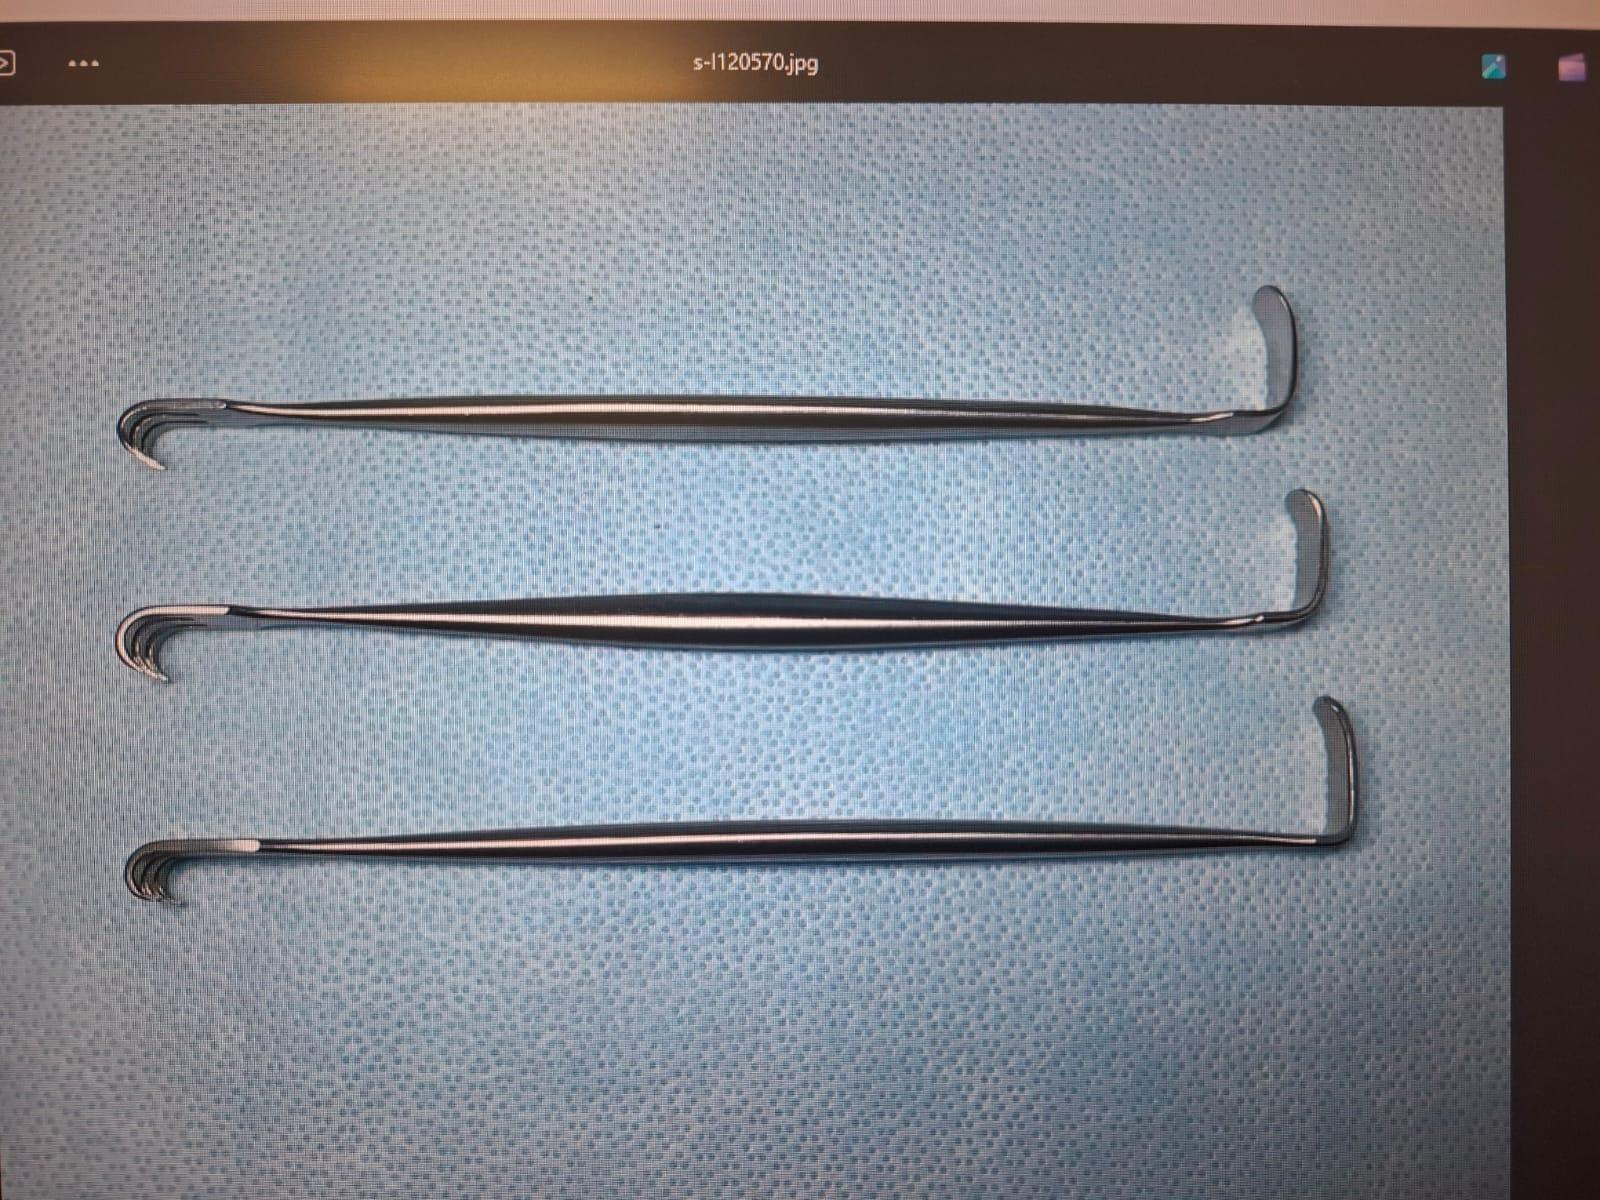Senn Retractor: (118, 676, 1386, 942), (106, 466, 1356, 696), (102, 266, 1320, 488)
